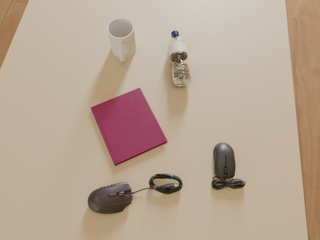book: (91, 88, 167, 165)
bottle: (168, 31, 192, 87)
cup: (107, 18, 136, 61)
mouse: (212, 143, 246, 189), (88, 182, 135, 214)
